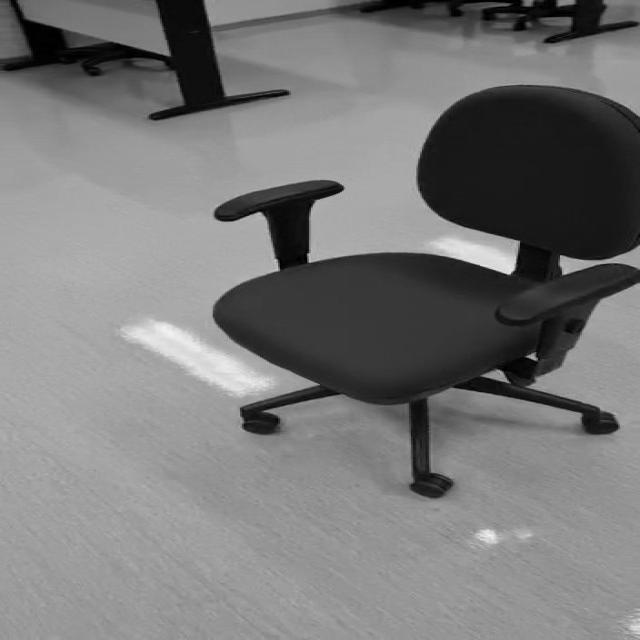cadeira-azul: (215, 84, 640, 496)
